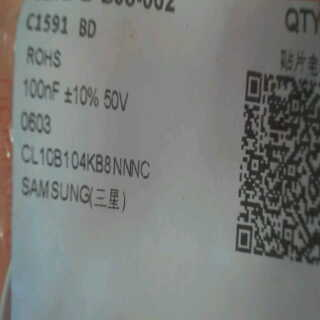100nF: (22, 73, 60, 105)
